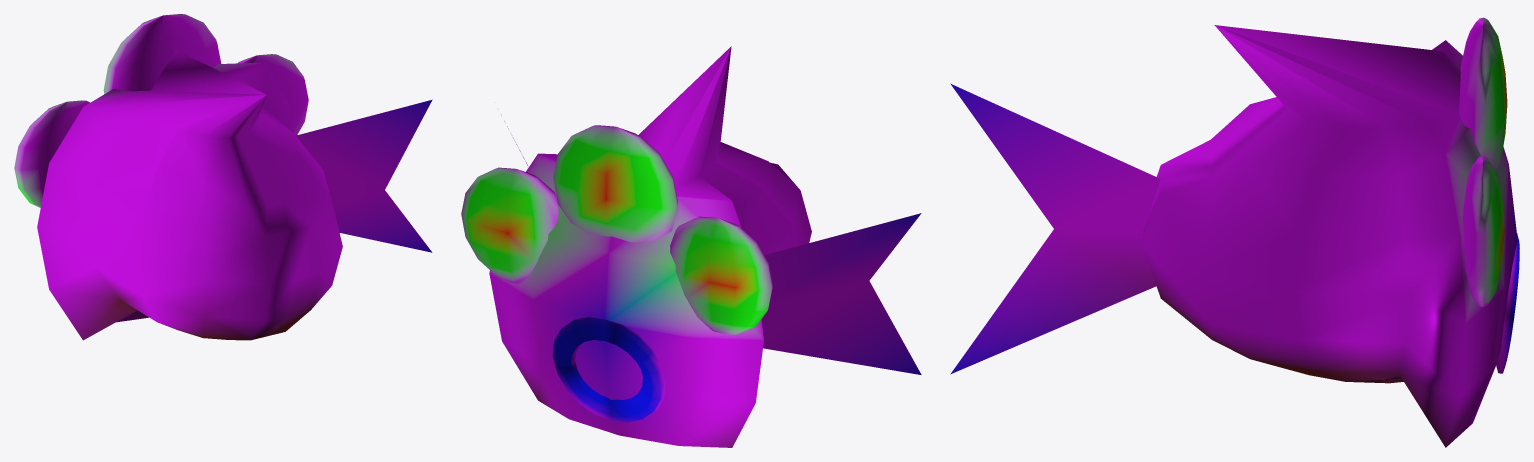
The model's file is psychofish.glb.
3 renders of one model, left to right at view 1: azimuth 30°, elevation 25°; view 2: azimuth 150°, elevation 25°; view 3: azimuth 270°, elevation 25°, orthographic. The views are drawn at different scales.
Visible parts, largest first — view 1: Psychofish; view 2: Psychofish; view 3: Psychofish.
Part boxes in pixels (x1=…): Psychofish: x1=14, y1=14, x2=432, y2=340; Psychofish: x1=461, y1=46, x2=921, y2=447; Psychofish: x1=950, y1=17, x2=1519, y2=447.
Bounding box in the file's own units: 0.9786 × 0.6816 × 0.9565.
